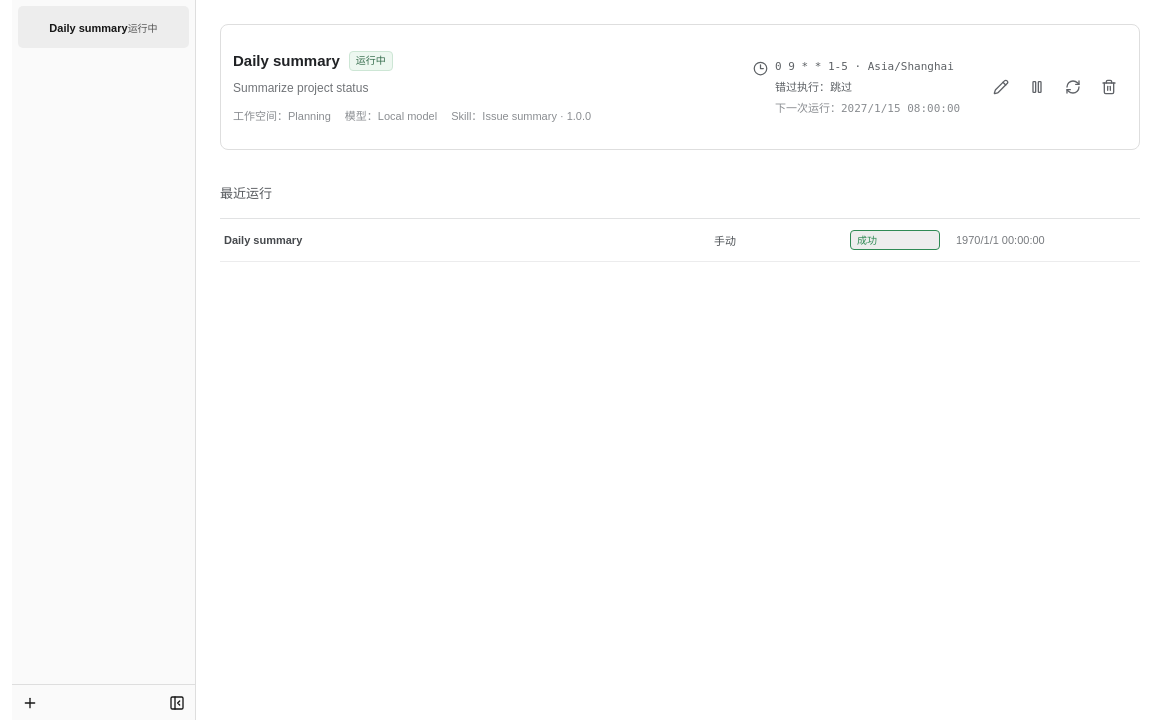
Test: SchedulePage › toasts a safe run failure and preserves execution history
Expected: the element with test id "schedule-run-existing-run" is shown, x1=220 y1=219 x2=1140 y2=262
Click the button named "立即执行 Daily summary" at (1073, 87), box x1=1059 y1=71 x2=1087 y2=103
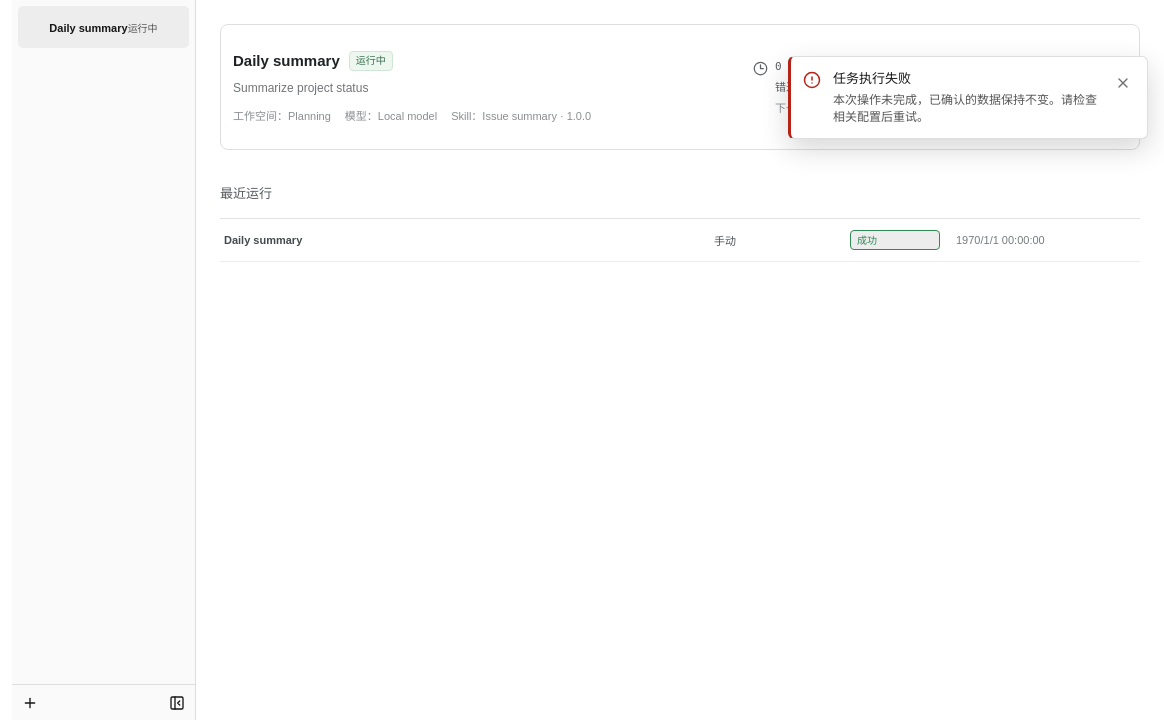
Expected: the message does not show "runner stack trace", x1=788 y1=56 x2=1148 y2=139
Expected: the message shows "任务执行失败", x1=833 y1=71 x2=911 y2=86
